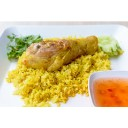briyani: (15, 40, 112, 99)
